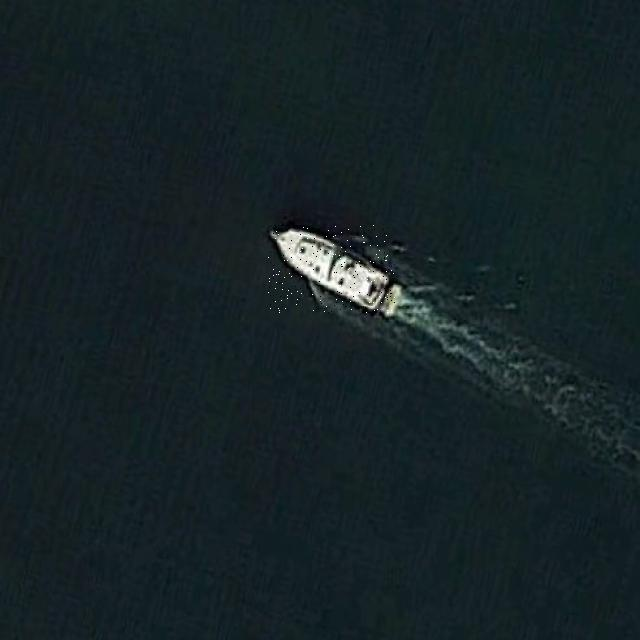boat: (268, 225, 395, 313)
